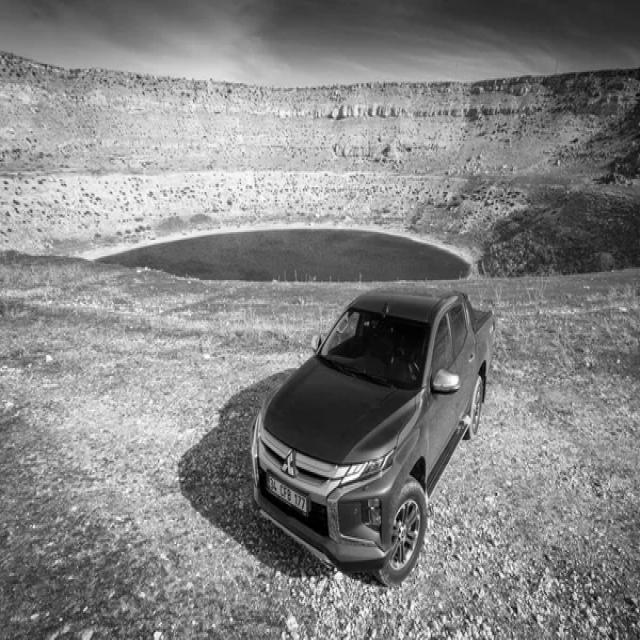Car: (252, 284, 497, 586)
